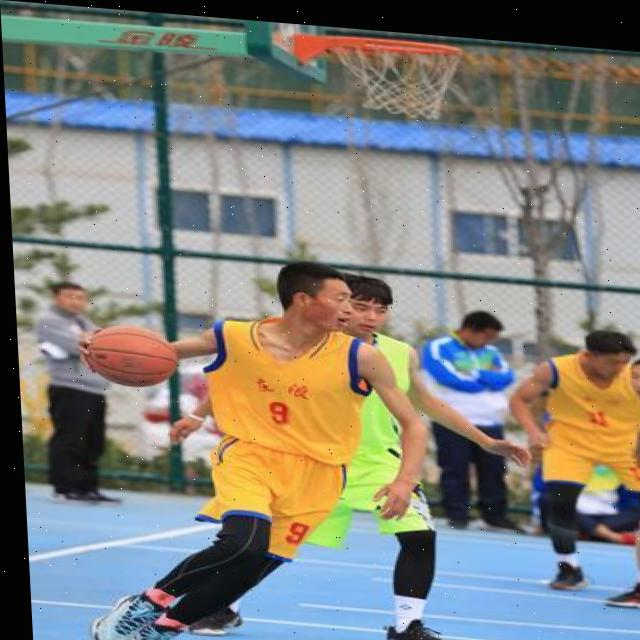basketball: (86, 322, 179, 390)
hoop: (321, 31, 470, 127)
